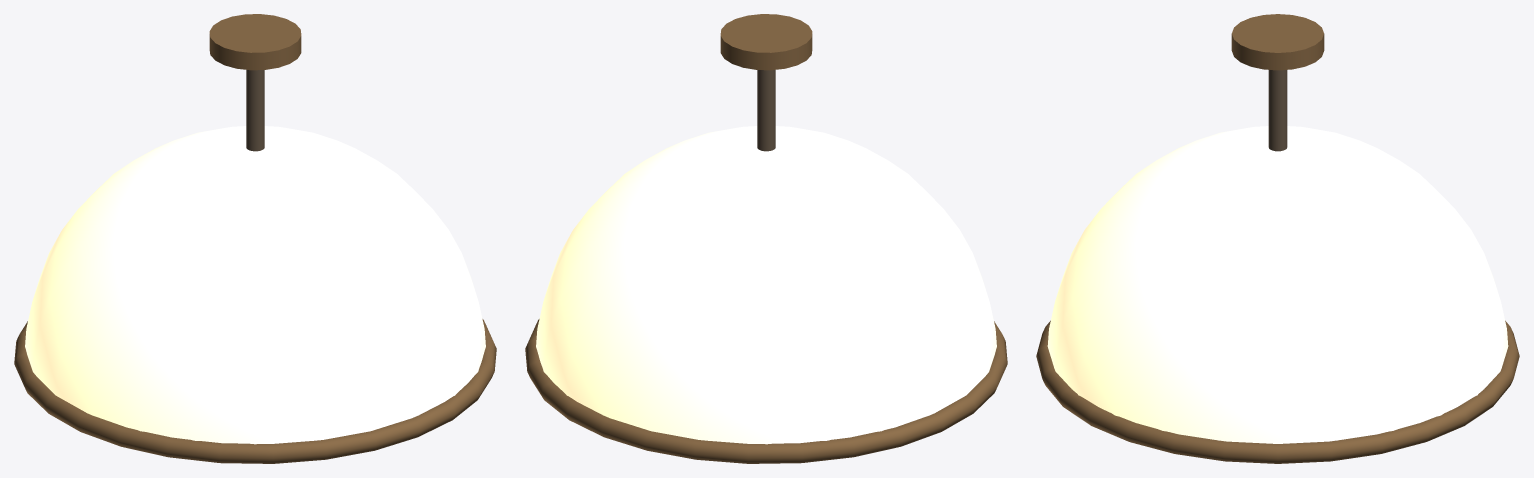
The model's file is pendant-warm-01.glb.
The picture shows the model from 3 angles, left to right: view 1: azimuth 30°, elevation 25°; view 2: azimuth 150°, elevation 25°; view 3: azimuth 270°, elevation 25°; orthographic projection.
Visible parts, largest first — view 1: dome, rim, ceiling-cap, cable; view 2: dome, rim, ceiling-cap, cable; view 3: dome, rim, ceiling-cap, cable.
Part boxes in pixels (x1=…): dome: x1=25, y1=126, x2=485, y2=444; rim: x1=14, y1=319, x2=496, y2=463; ceiling-cap: x1=209, y1=14, x2=301, y2=70; cable: x1=246, y1=70, x2=264, y2=151; dome: x1=536, y1=126, x2=996, y2=444; rim: x1=525, y1=319, x2=1007, y2=463; ceiling-cap: x1=720, y1=14, x2=812, y2=70; cable: x1=757, y1=70, x2=775, y2=151; dome: x1=1047, y1=126, x2=1508, y2=443; rim: x1=1036, y1=320, x2=1519, y2=463; ceiling-cap: x1=1231, y1=14, x2=1324, y2=70; cable: x1=1268, y1=70, x2=1287, y2=151.
Bounding box in the file's own units: 0.628 × 0.4825 × 0.628.
